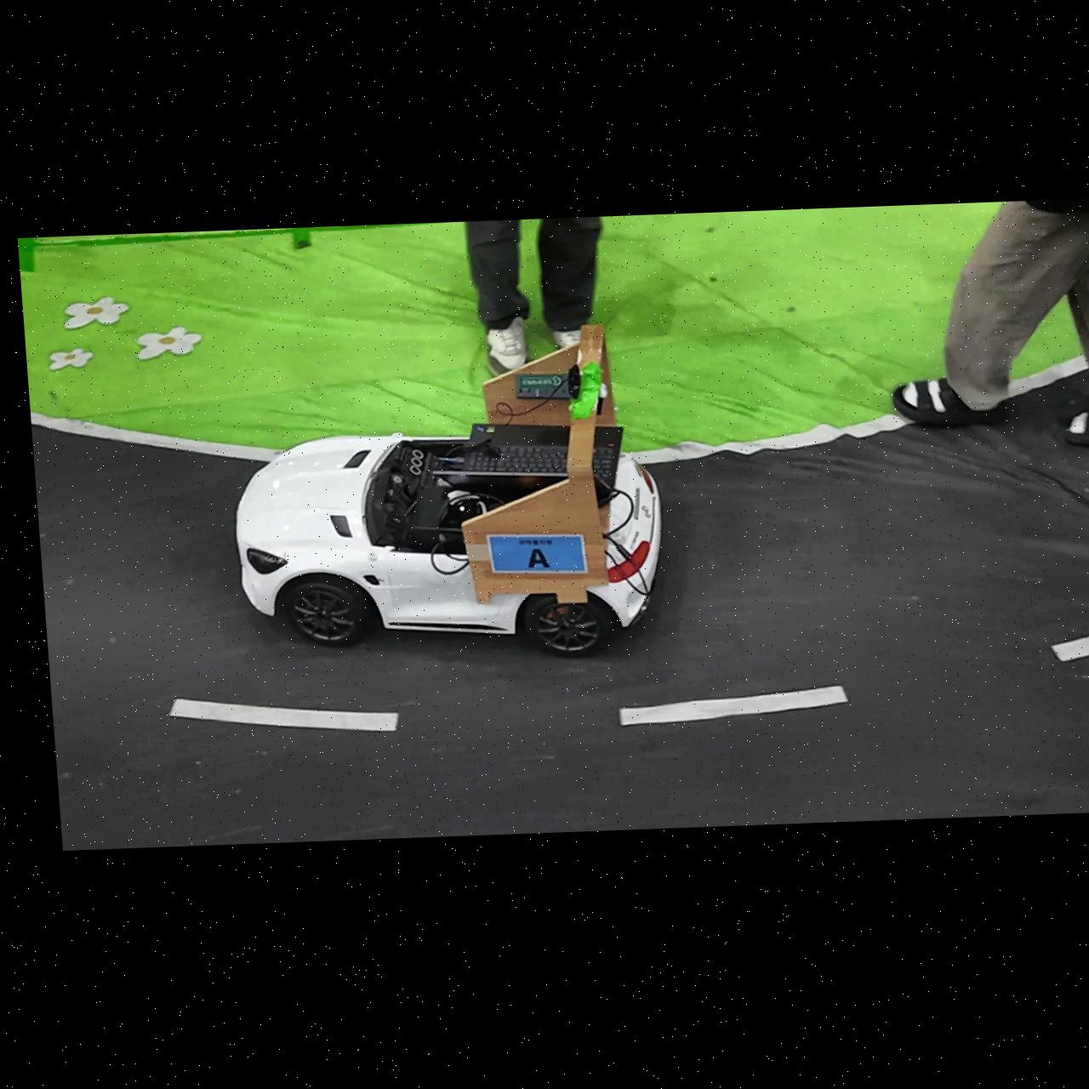broken_line: (620, 686, 847, 725), (170, 699, 398, 731), (1052, 636, 1089, 661)
